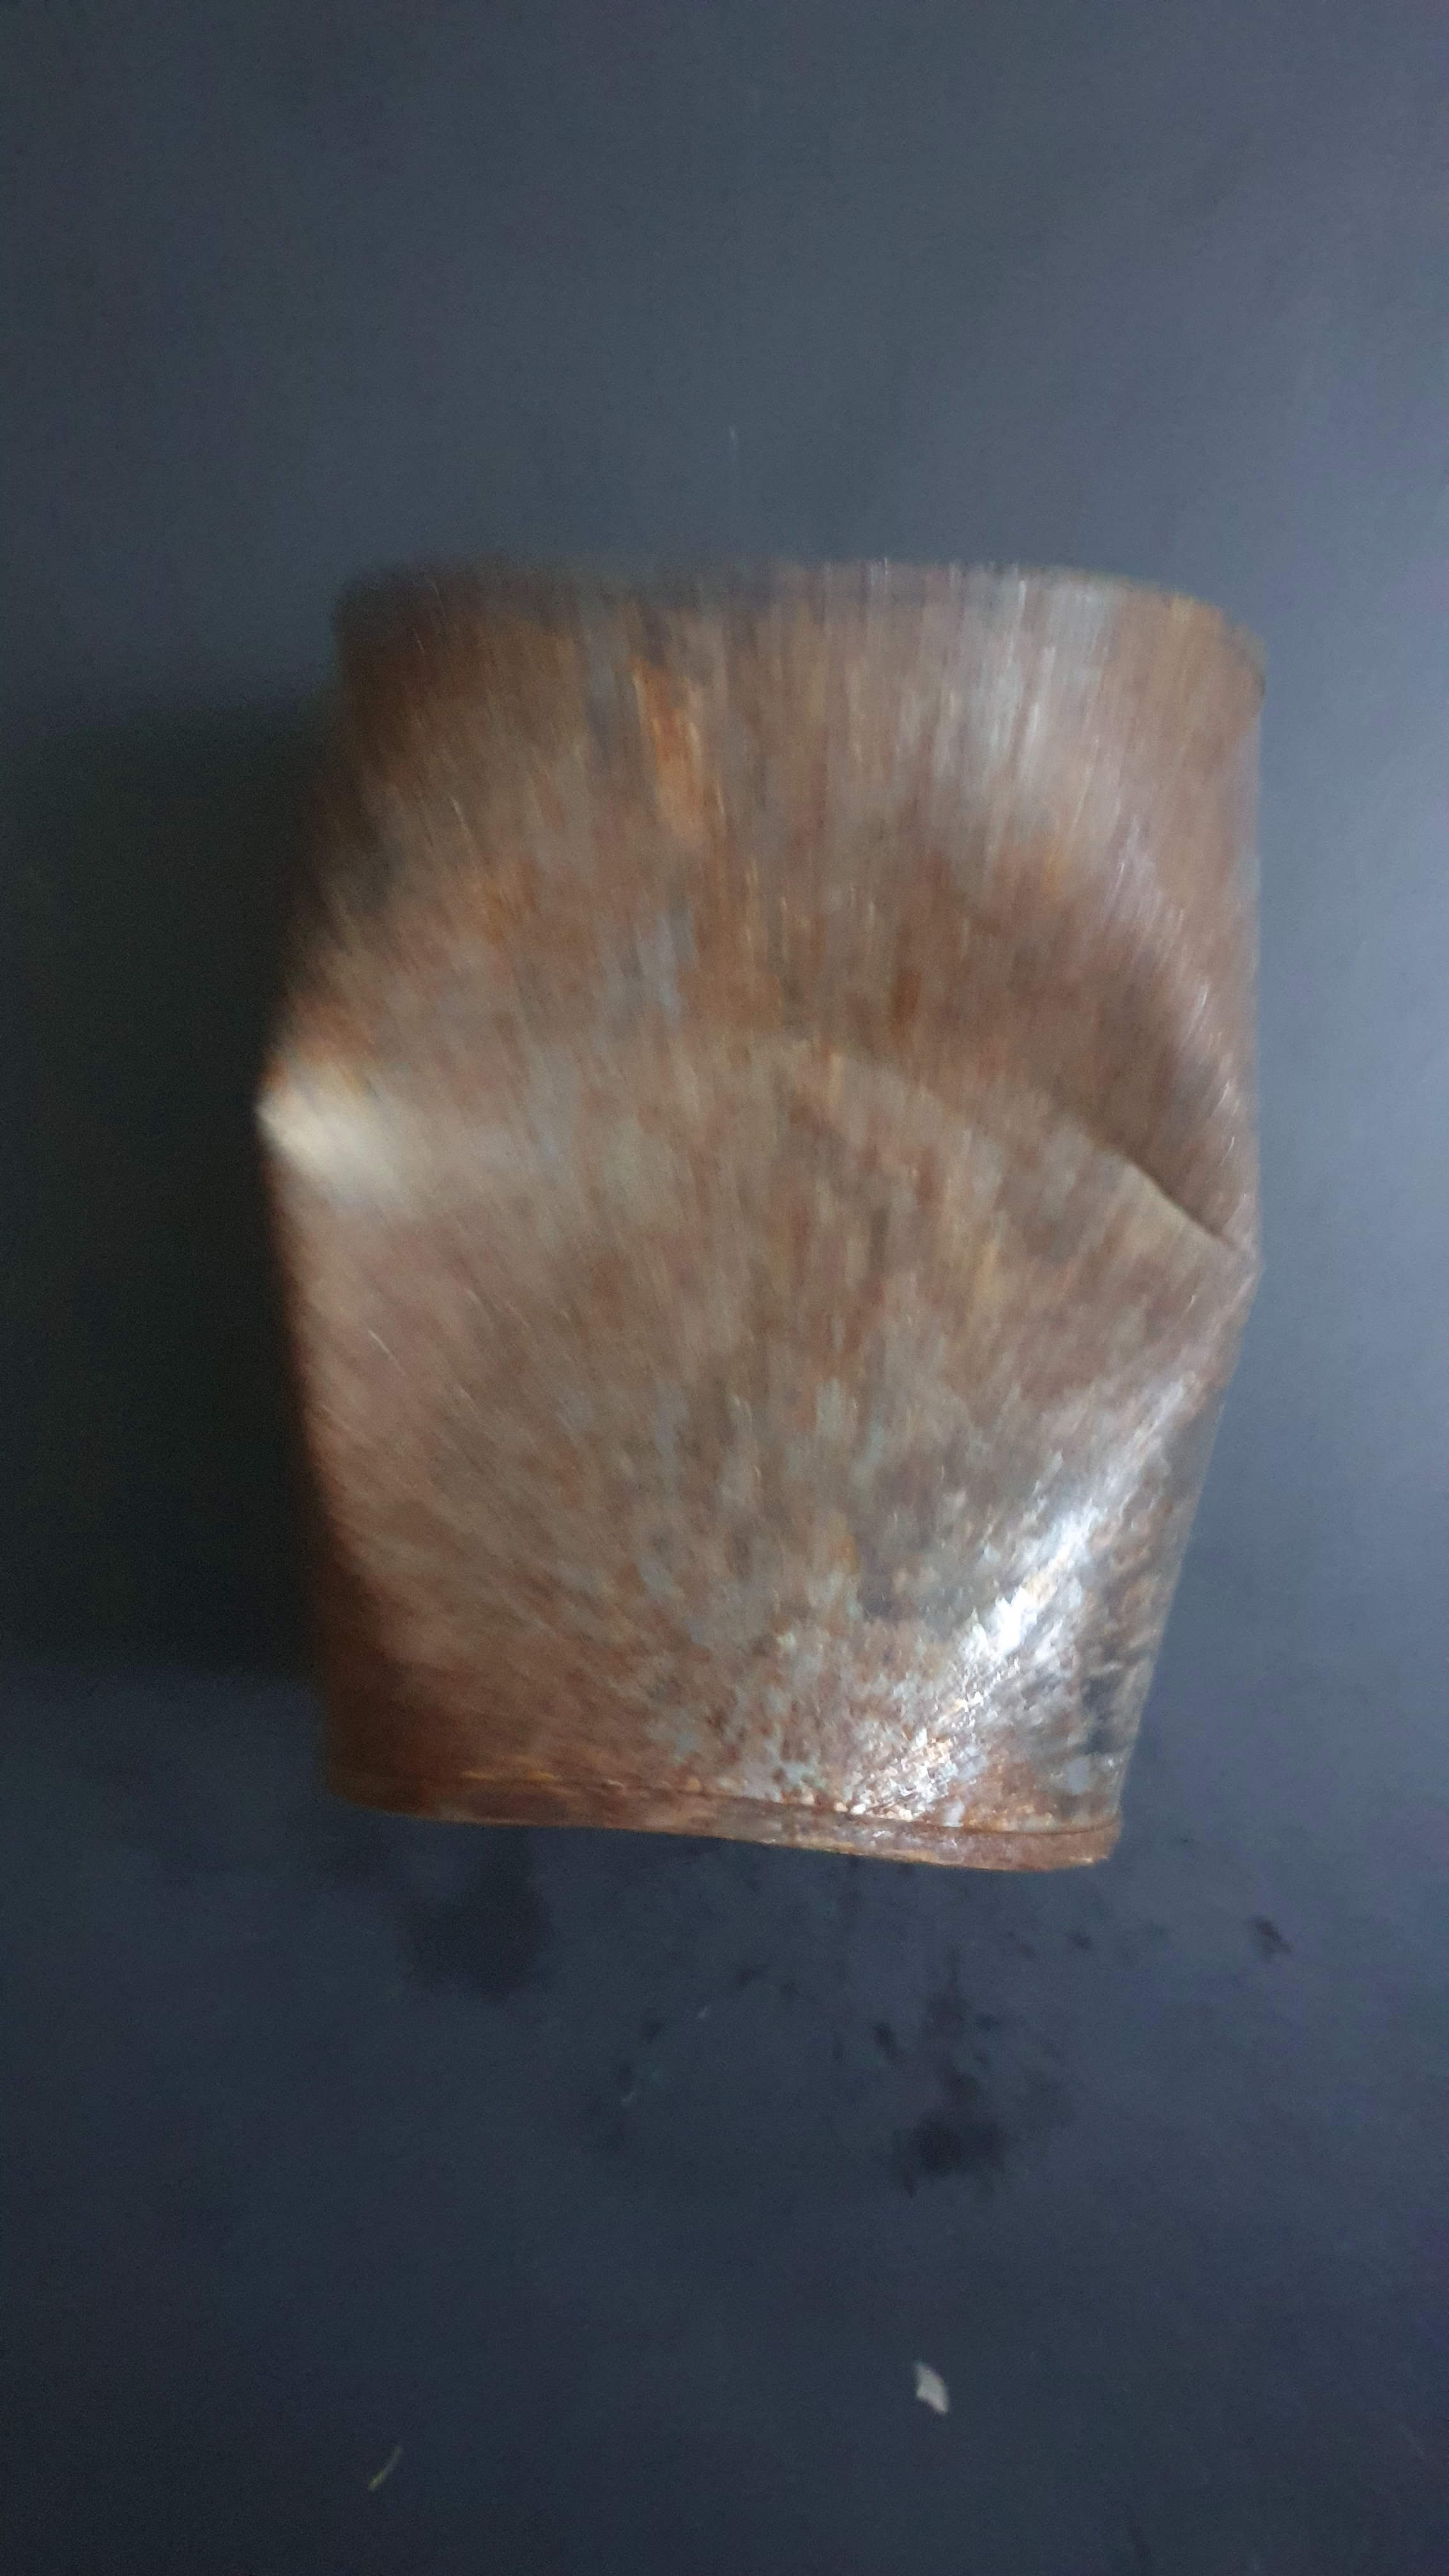metal: (232, 465, 1327, 1941)
